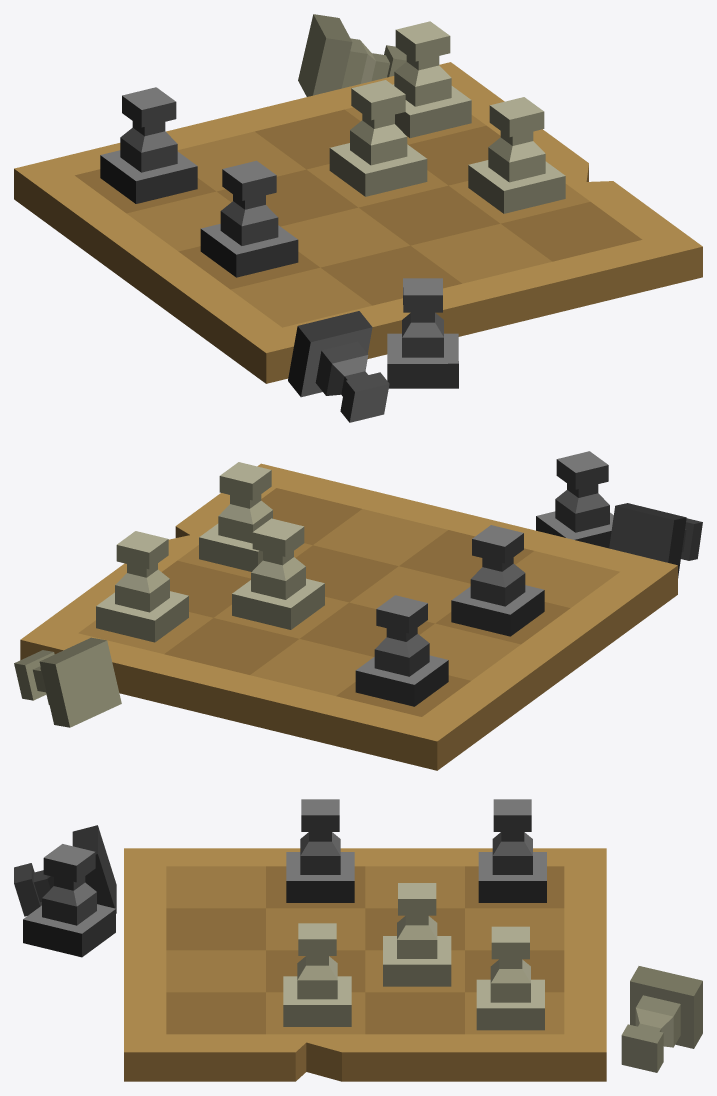
Rendered from AI_Prop_Chess.fbx.
3 views of the same model, one above another, from view 1: azimuth 30°, elevation 25°; view 2: azimuth 150°, elevation 25°; view 3: azimuth 270°, elevation 25° (orthographic). The views are drawn at different scales.
Visible parts, largest first — view 1: AI_Prop_Chess; view 2: AI_Prop_Chess; view 3: AI_Prop_Chess.
Boxes of the visible parts, <box> form: AI_Prop_Chess: <box>14,14,702,422</box>; AI_Prop_Chess: <box>14,451,702,770</box>; AI_Prop_Chess: <box>14,799,702,1081</box>.
Size of the model in its own units: 1.2 by 0.3253 by 1.71.
